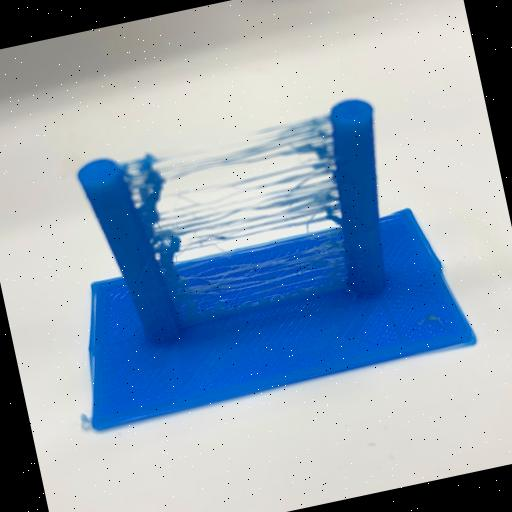stringing: (127, 113, 350, 326)
